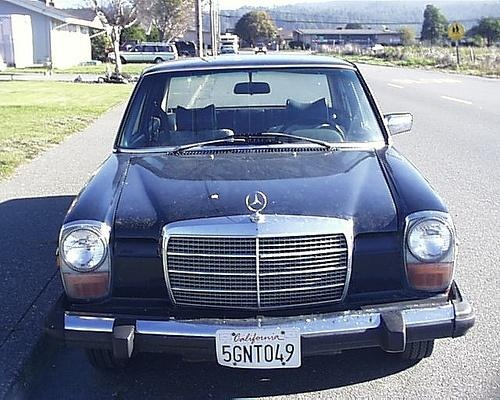car: (52, 55, 479, 371), (109, 39, 178, 64), (254, 43, 270, 56), (220, 43, 236, 54)
